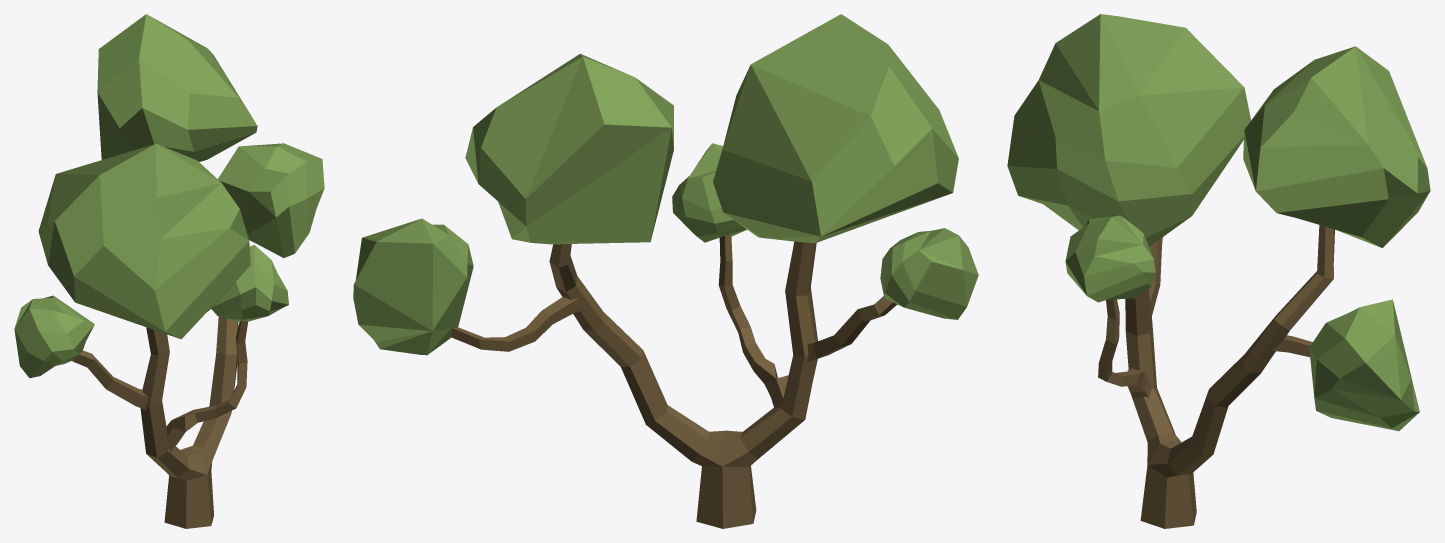
Rendered from tree.fbx.
The picture shows the model from 3 angles, left to right: view 1: azimuth 30°, elevation 25°; view 2: azimuth 150°, elevation 25°; view 3: azimuth 270°, elevation 25°; orthographic projection. The views are drawn at different scales.
Visible parts, largest first — view 1: pasted__pSphere14; view 2: pasted__pSphere14; view 3: pasted__pSphere14.
Part boxes in pixels (left/top/right/bottom): pasted__pSphere14: left=14, top=14, right=324, bottom=528; pasted__pSphere14: left=353, top=14, right=978, bottom=528; pasted__pSphere14: left=1007, top=14, right=1430, bottom=528.
Size of the model in its own units: 264 by 271 by 211.
